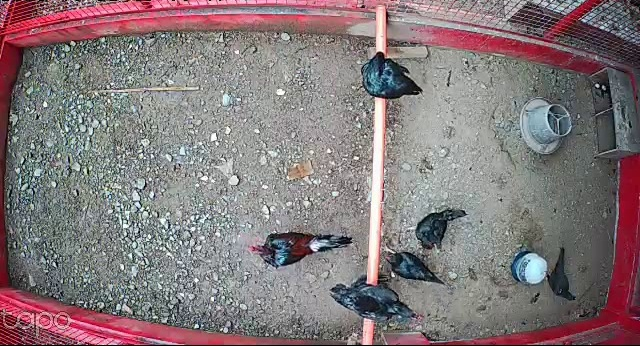Chicken: (323, 284, 428, 324), (357, 52, 425, 101), (377, 241, 447, 286), (412, 203, 469, 252), (544, 247, 579, 304)
Drinker: (510, 251, 548, 285)
Feeder: (518, 92, 572, 157)
Rooster: (242, 228, 355, 267)
